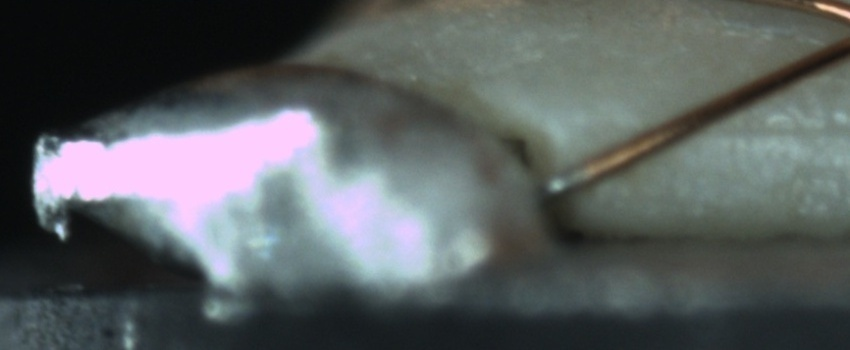DL: (687, 97, 849, 164)
TS: (540, 165, 587, 199)
